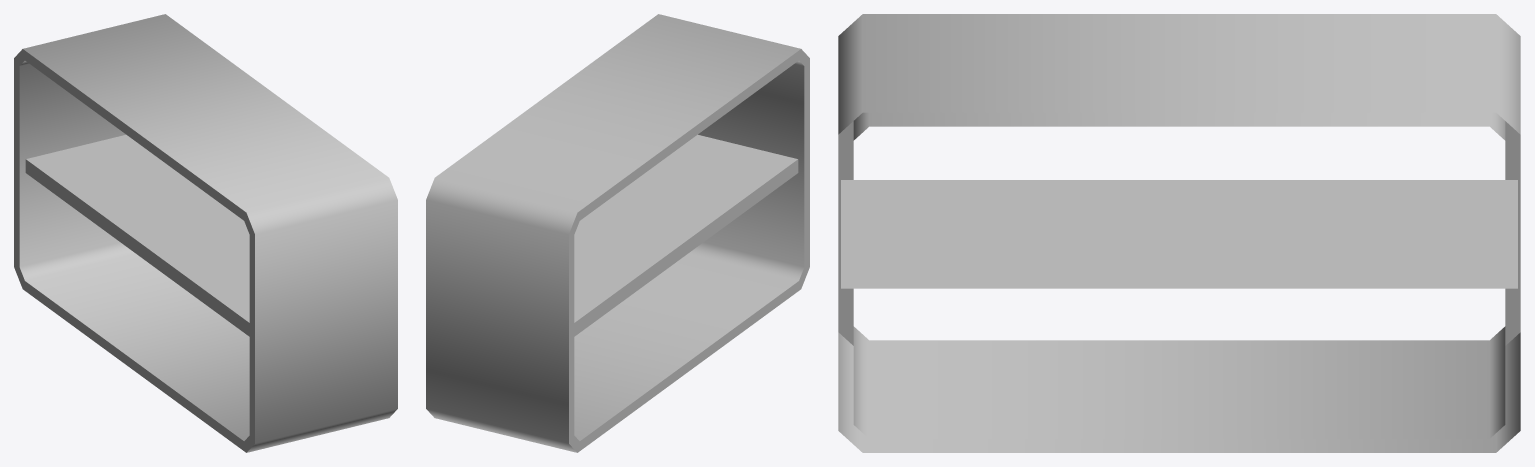
File: SM_Shelf_C2_Empty.fbx
3 views of the same model, side by side, from view 1: azimuth 30°, elevation 25°; view 2: azimuth 150°, elevation 25°; view 3: azimuth 270°, elevation 25° (orthographic). The views are drawn at different scales.
Visible parts, largest first — view 1: SM_Shelf_C2_Empty; view 2: SM_Shelf_C2_Empty; view 3: SM_Shelf_C2_Empty.
Boxes of the visible parts, x1,y1,x2,y2 form: SM_Shelf_C2_Empty: (14, 14, 397, 452); SM_Shelf_C2_Empty: (426, 14, 809, 452); SM_Shelf_C2_Empty: (838, 14, 1520, 452).
Bounding box in the file's own units: 60.41 × 97.14 × 177.
Materials: 1 (1 with a texture image).
